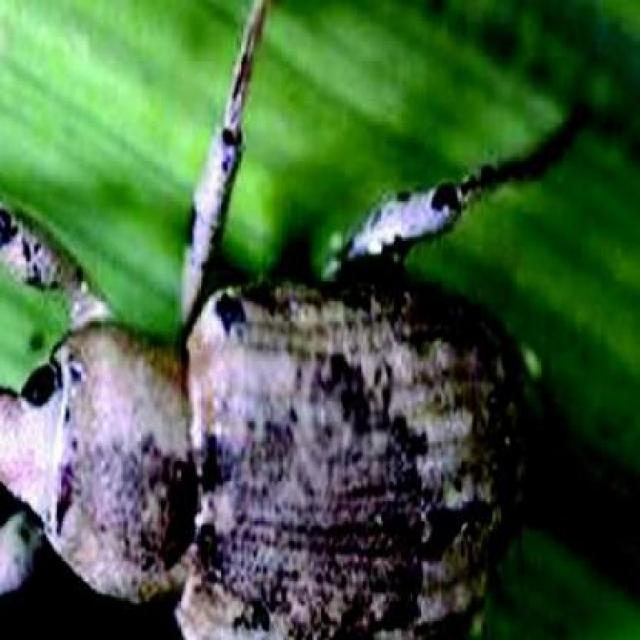rice-bug: (1, 111, 518, 640)
